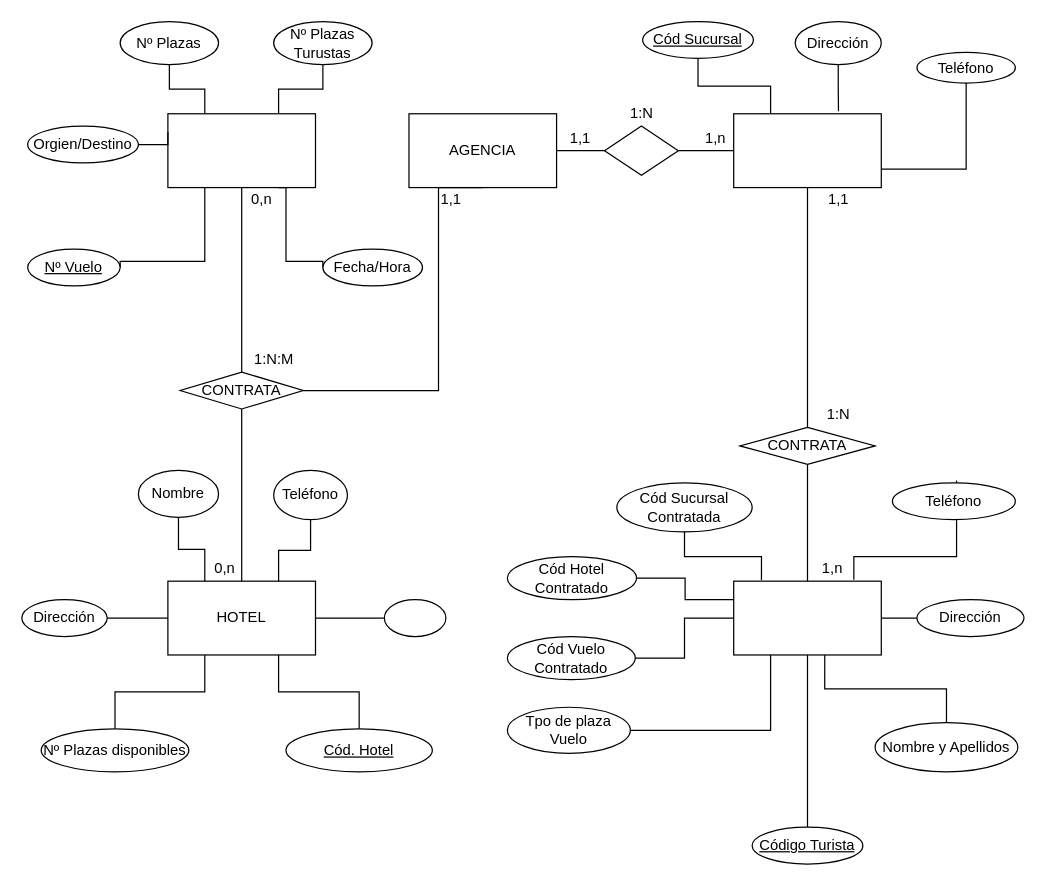
This 1046x886 diagram has some shape labels left out. Each missing label, with the centre of its shape:
"Ciudad" belongs at (x=414, y=617).
"SUCURSAL" belongs at (x=806, y=150).
"TIENE" belongs at (x=640, y=150).
"TURISTA" belongs at (x=806, y=617).
"VUELOS" belongs at (x=241, y=150).
